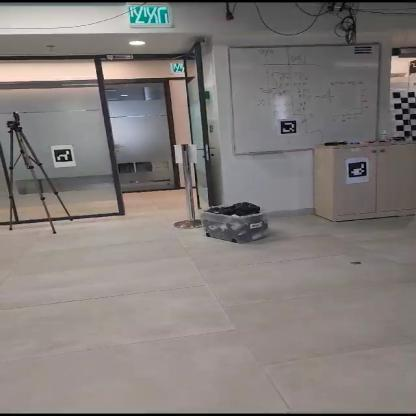open: (102, 70, 206, 223)
